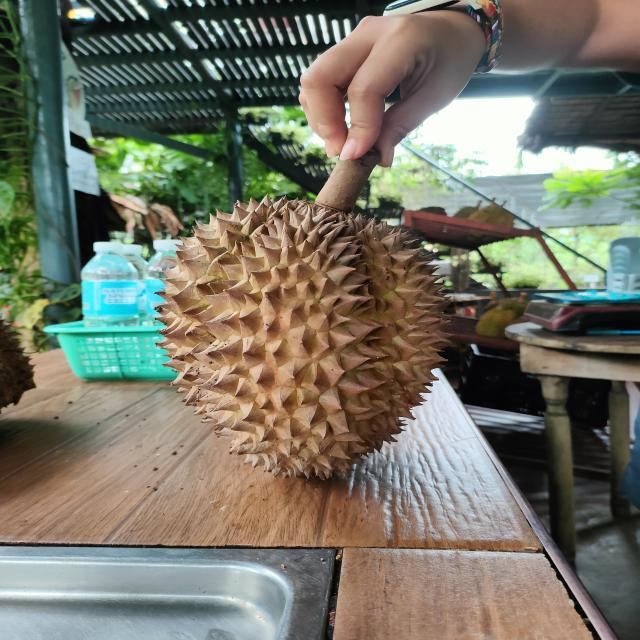mature: (160, 198, 448, 479)
